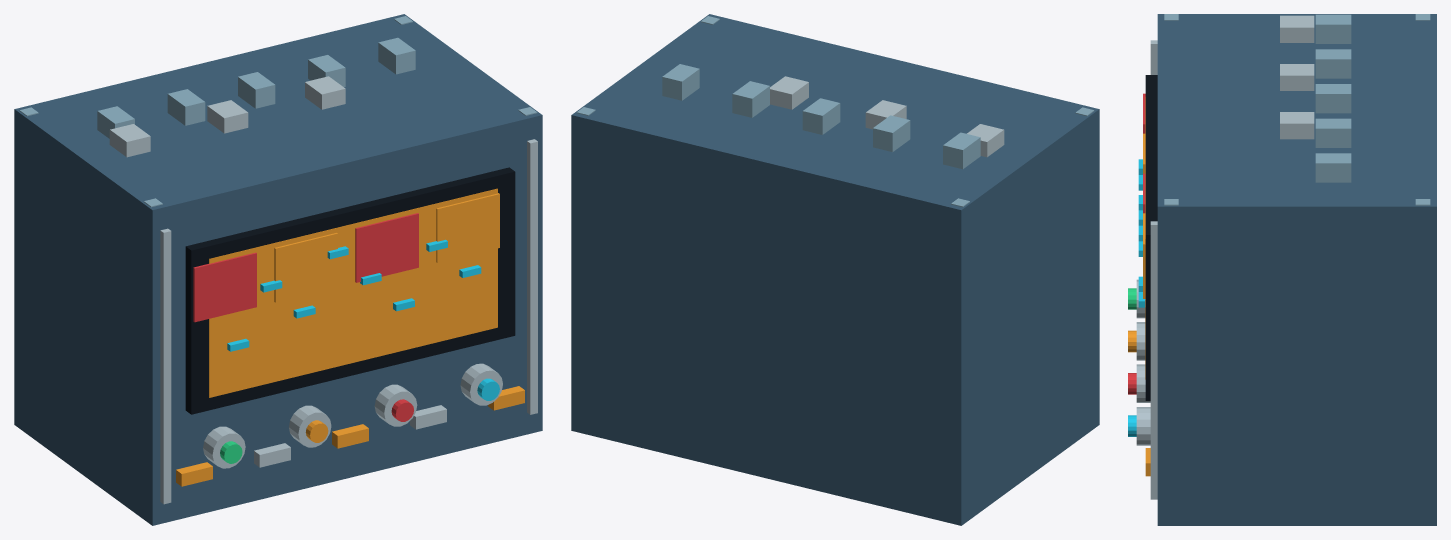
Rendered from 45_L72_WaferTemperaturePIDController.fbx.
3 renders of one model, left to right at view 1: azimuth 30°, elevation 25°; view 2: azimuth 150°, elevation 25°; view 3: azimuth 270°, elevation 25°, orthographic.
Visible parts, largest first — view 1: WaferTemperaturePIDController; view 2: WaferTemperaturePIDController; view 3: WaferTemperaturePIDController.
Part boxes in pixels (x1,y1,x2,y2): WaferTemperaturePIDController: (14,14,542,525); WaferTemperaturePIDController: (571,14,1099,525); WaferTemperaturePIDController: (1128,14,1436,525).
Bounding box in the file's own units: 106 × 86.98 × 71.85.
